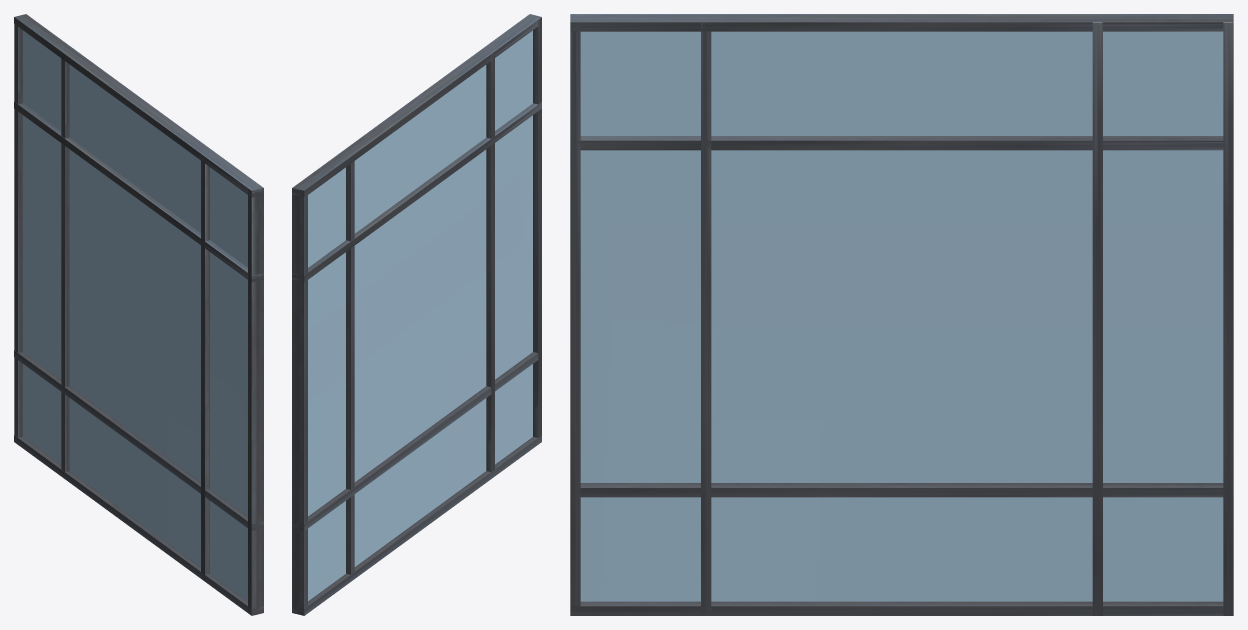
File: window_v3.fbx
3 views of the same model, side by side, from view 1: azimuth 30°, elevation 25°; view 2: azimuth 150°, elevation 25°; view 3: azimuth 270°, elevation 25° (orthographic). The views are drawn at different scales.
Parts seen in each view (by area): view 1: Plane.001, Cube.002; view 2: Plane.001, Cube.002; view 3: Plane.001, Cube.002.
Boxes of the visible parts, <box> form: Plane.001: <box>23,30,247,600</box>; Cube.002: <box>14,14,263,615</box>; Plane.001: <box>308,30,532,600</box>; Cube.002: <box>292,14,541,615</box>; Plane.001: <box>580,31,1223,601</box>; Cube.002: <box>570,14,1233,615</box>.
Size of the model in its own units: 15.28 by 501 by 508.
